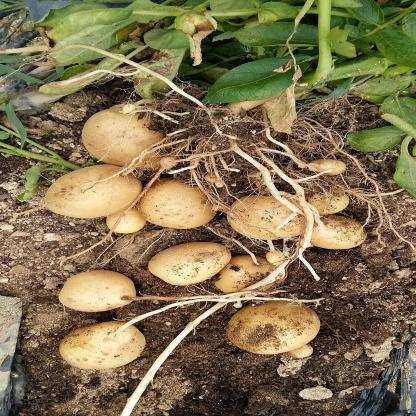potato: (73, 90, 189, 176), (220, 288, 329, 355), (50, 158, 144, 228), (130, 172, 224, 231), (48, 320, 152, 372), (149, 236, 253, 287), (221, 183, 306, 240), (60, 268, 146, 313)
